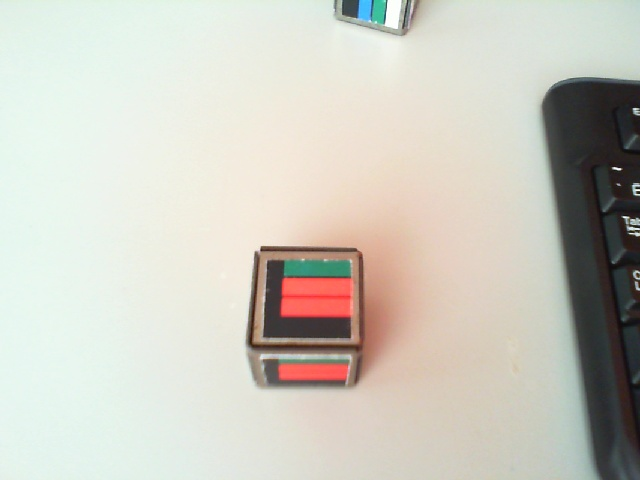square: (265, 258, 352, 338)
